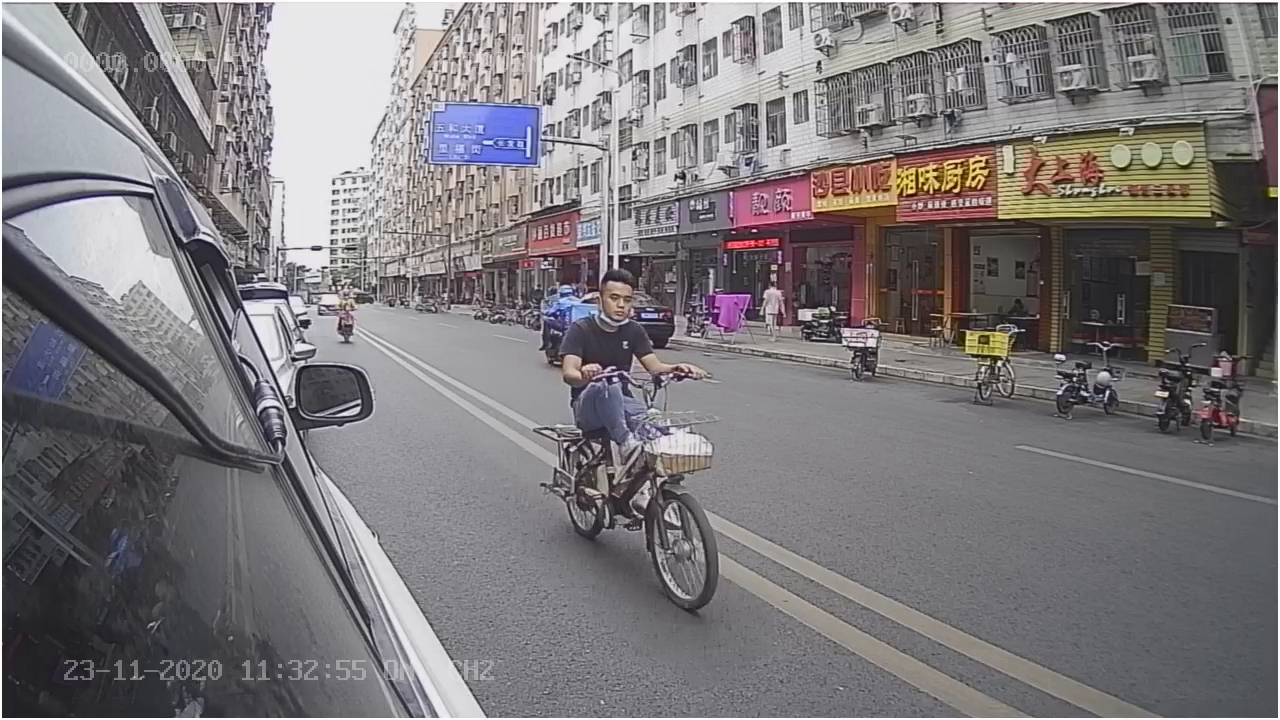person: (564, 253, 672, 381)
